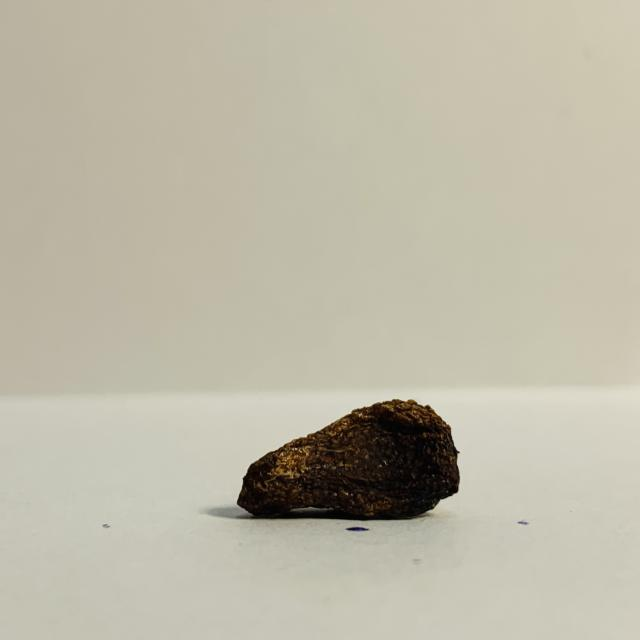Flat_cocoabeans: (177, 388, 511, 533)
